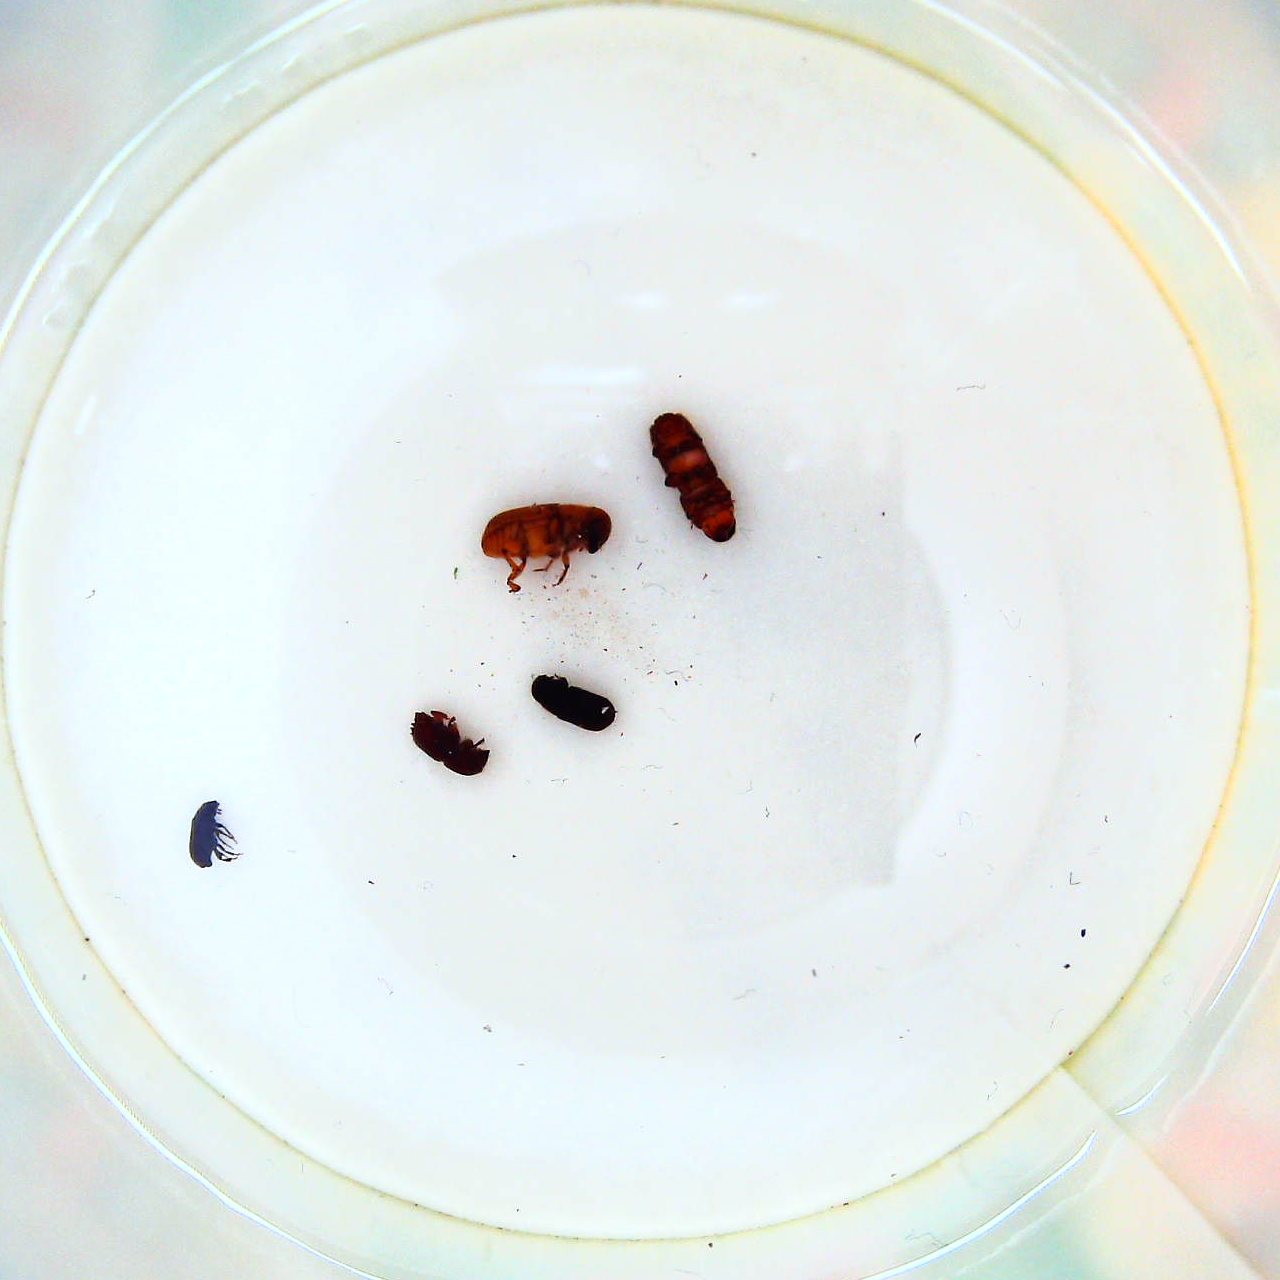Boerner: (645, 406, 745, 551)
Leconte: (472, 498, 618, 598)
armandi: (527, 666, 618, 738)
coleoptera: (182, 798, 248, 873)
linnaeus: (406, 704, 496, 783)
